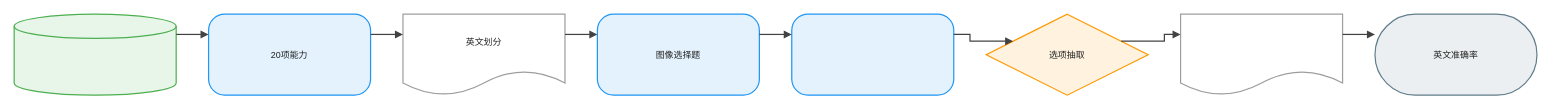
This 1552x110 diagram has some shape labels left out. Each missing label, with the centre of its shape:
"循环评估" belongs at (872,54).
"提交评测" belongs at (1261,54).
"来源题池" belongs at (94,54).
